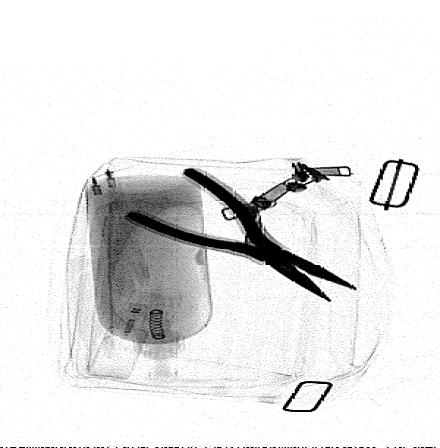Pliers: (123, 165, 360, 304)
